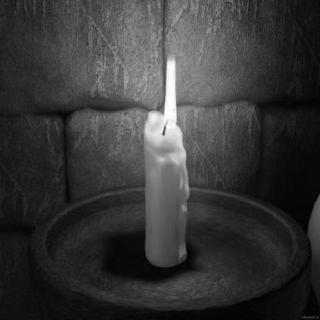Fire: (159, 53, 185, 136)
